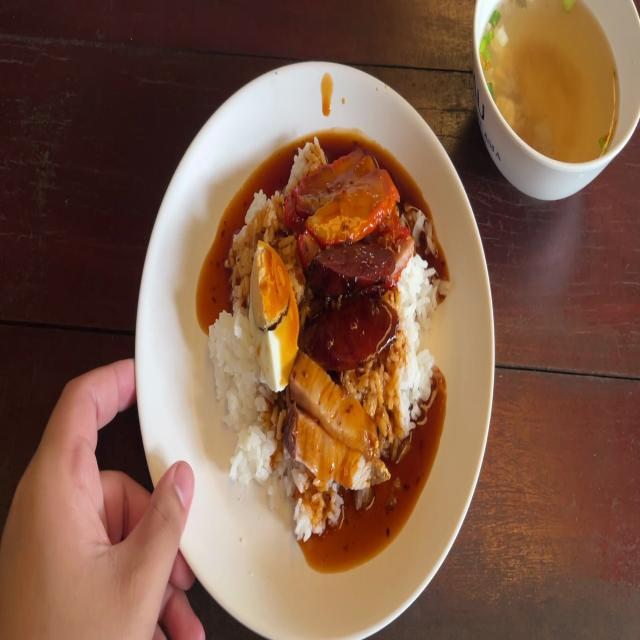01boiled_egg: (254, 243, 293, 392)
01chainese_sausage: (300, 241, 396, 359)
01crispy_pork: (288, 357, 378, 493)
01red_pork: (287, 149, 387, 239)
01red_pork_and_crispy_pork: (207, 148, 431, 519)
01rice: (213, 192, 259, 482), (386, 263, 438, 422)
